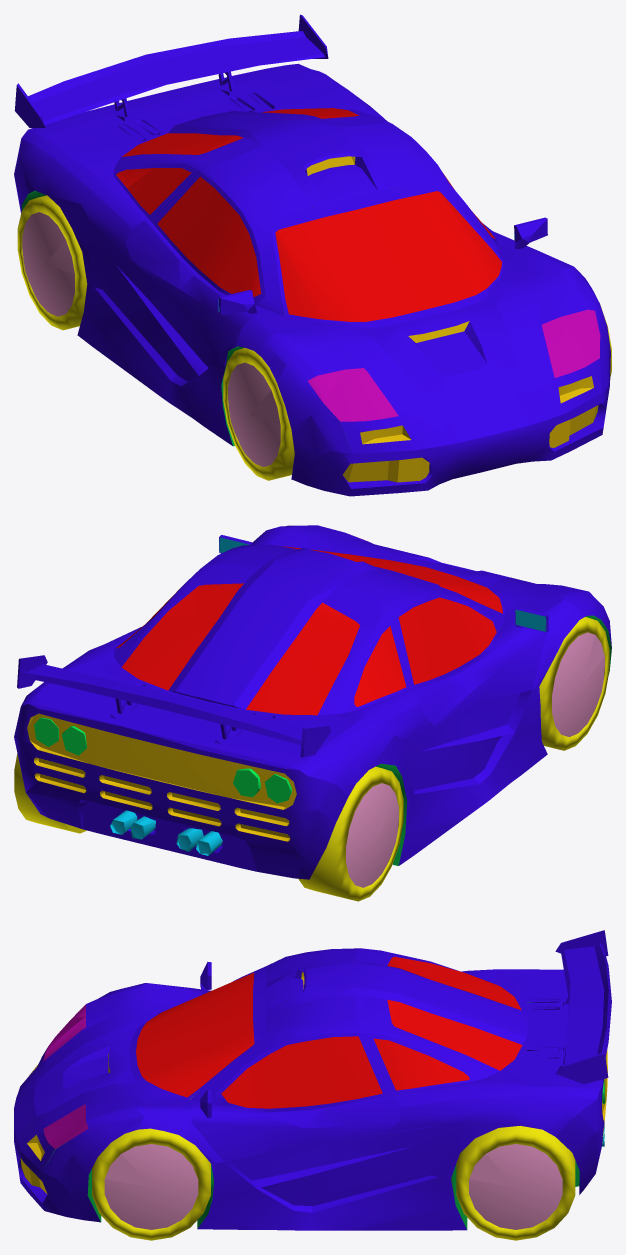
File: Car10_Low_ColorCoded.fbx
3 renders of one model, top to bottom at view 1: azimuth 30°, elevation 25°; view 2: azimuth 150°, elevation 25°; view 3: azimuth 270°, elevation 25°, orthographic. The views are drawn at different scales.
Parts seen in each view (by area): view 1: carBody_low, tireBackR_low, tireFrontR_low; view 2: carBody_low, tireBackR_low, tireFrontR_low, tireBackL_low; view 3: carBody_low, tireBackL_low, tireFrontL_low.
Boxes of the visible parts, bbox=[...] form: carBody_low: bbox=[14, 14, 610, 496]; tireBackR_low: bbox=[17, 195, 87, 330]; tireFrontR_low: bbox=[223, 347, 294, 480]; carBody_low: bbox=[14, 525, 611, 879]; tireBackR_low: bbox=[298, 766, 403, 901]; tireFrontR_low: bbox=[539, 617, 609, 750]; tireBackL_low: bbox=[14, 754, 86, 833]; carBody_low: bbox=[14, 930, 611, 1230]; tireBackL_low: bbox=[456, 1126, 575, 1240]; tireFrontL_low: bbox=[92, 1128, 210, 1240].
Size of the model in its own units: 64.62 by 112 by 40.74.
